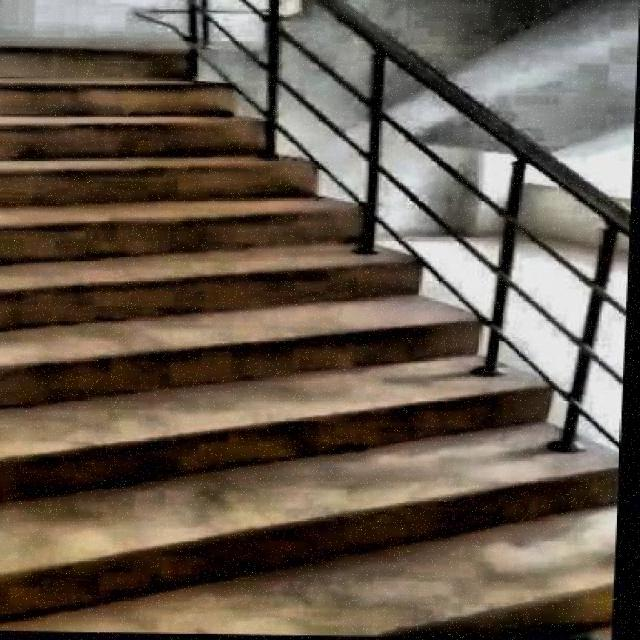stair: (1, 40, 624, 638)
